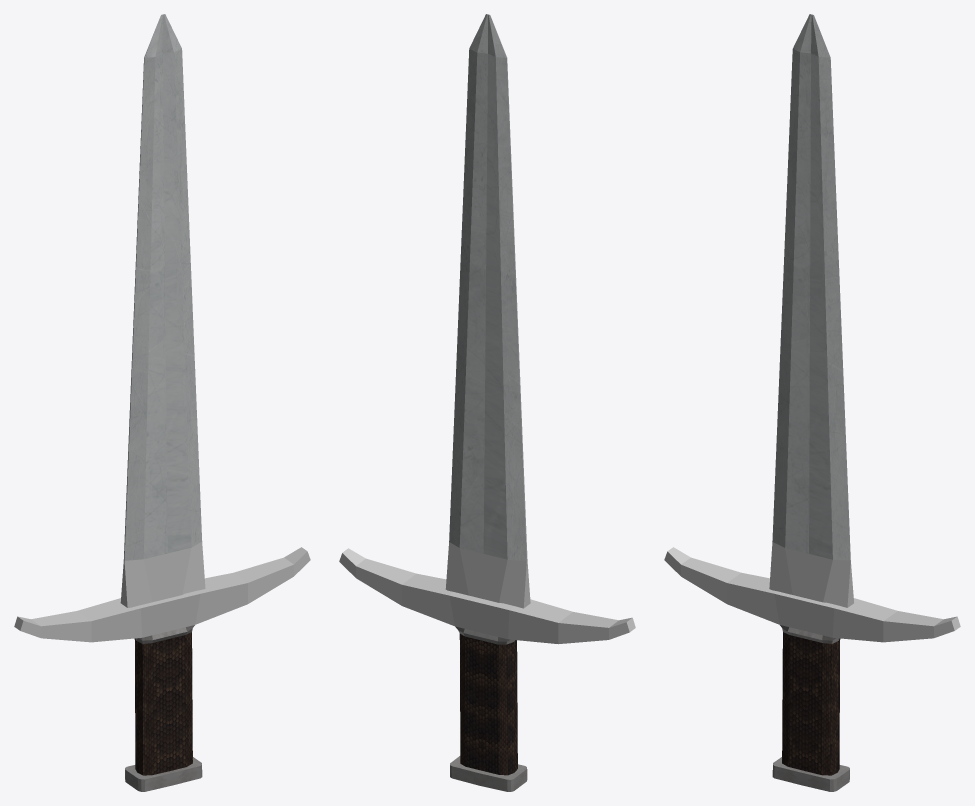
File: DZ_23_Sword_OneHand.fbx
The picture shows the model from 3 angles, left to right: view 1: azimuth 30°, elevation 25°; view 2: azimuth 150°, elevation 25°; view 3: azimuth 330°, elevation 25°; orthographic projection.
Visible parts, largest first — view 1: Blade, Handke; view 2: Blade, Handke; view 3: Blade, Handke.
Part boxes in pixels (x1,y1,x2,y2): Blade: (120, 14, 205, 607); Handke: (14, 547, 310, 791); Blade: (445, 14, 530, 608); Handke: (339, 548, 635, 791); Blade: (769, 14, 853, 607); Handke: (664, 547, 960, 791).
Bounding box in the file's own units: 189 × 476 × 20.71.
